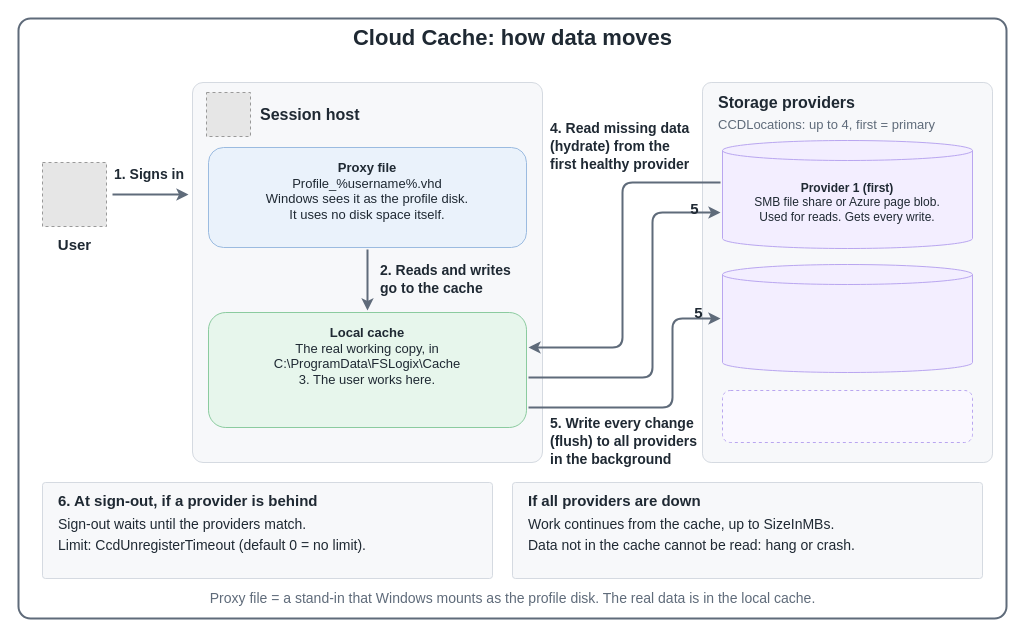
Image size: 1024x636. Some labels were removed from this diagram. Grey dashed boxes stand in for pictures. Here are the shapes that lost their labels. From the top down, the box of each, then its label:
(722, 264, 972, 372): Provider 2 SMB file share or Azure page blob. Gets every write.
(722, 390, 972, 442): Provider 3 and 4 (optional) Each also gets every write
